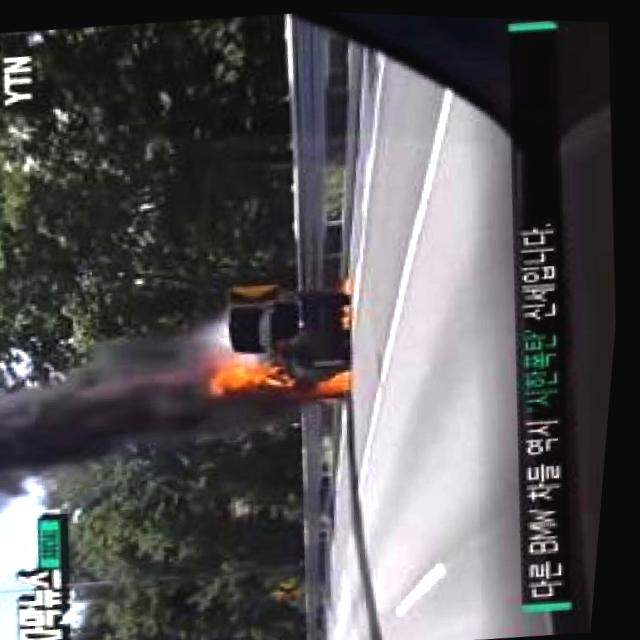Fire: (194, 332, 364, 406)
